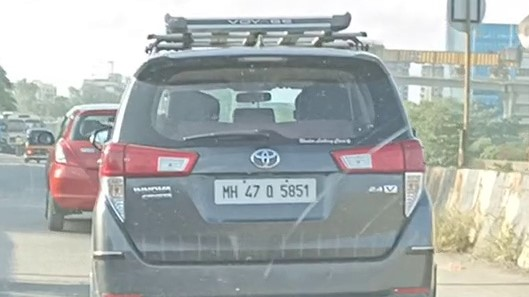MH4705851: (213, 178, 316, 203)
